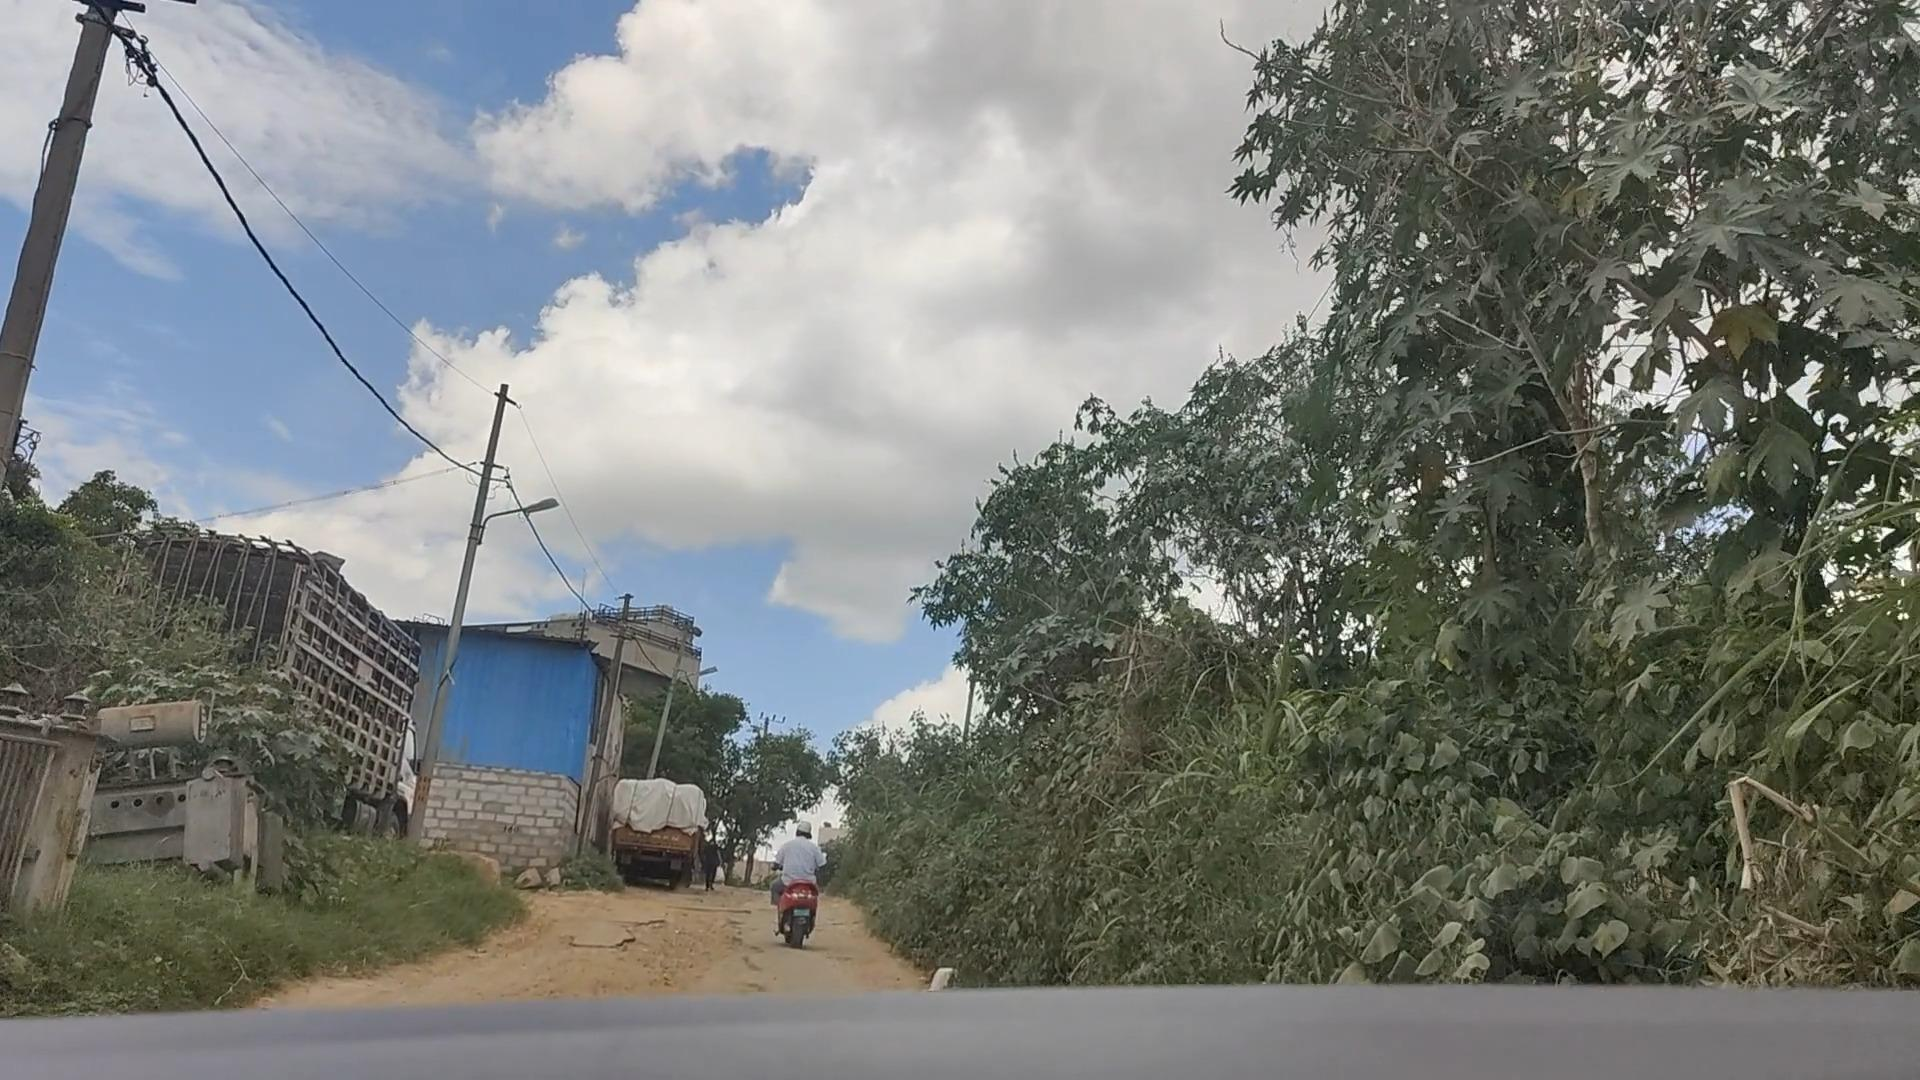HMV: (600, 774, 711, 905)
RoadDamages: (507, 911, 777, 1006)
